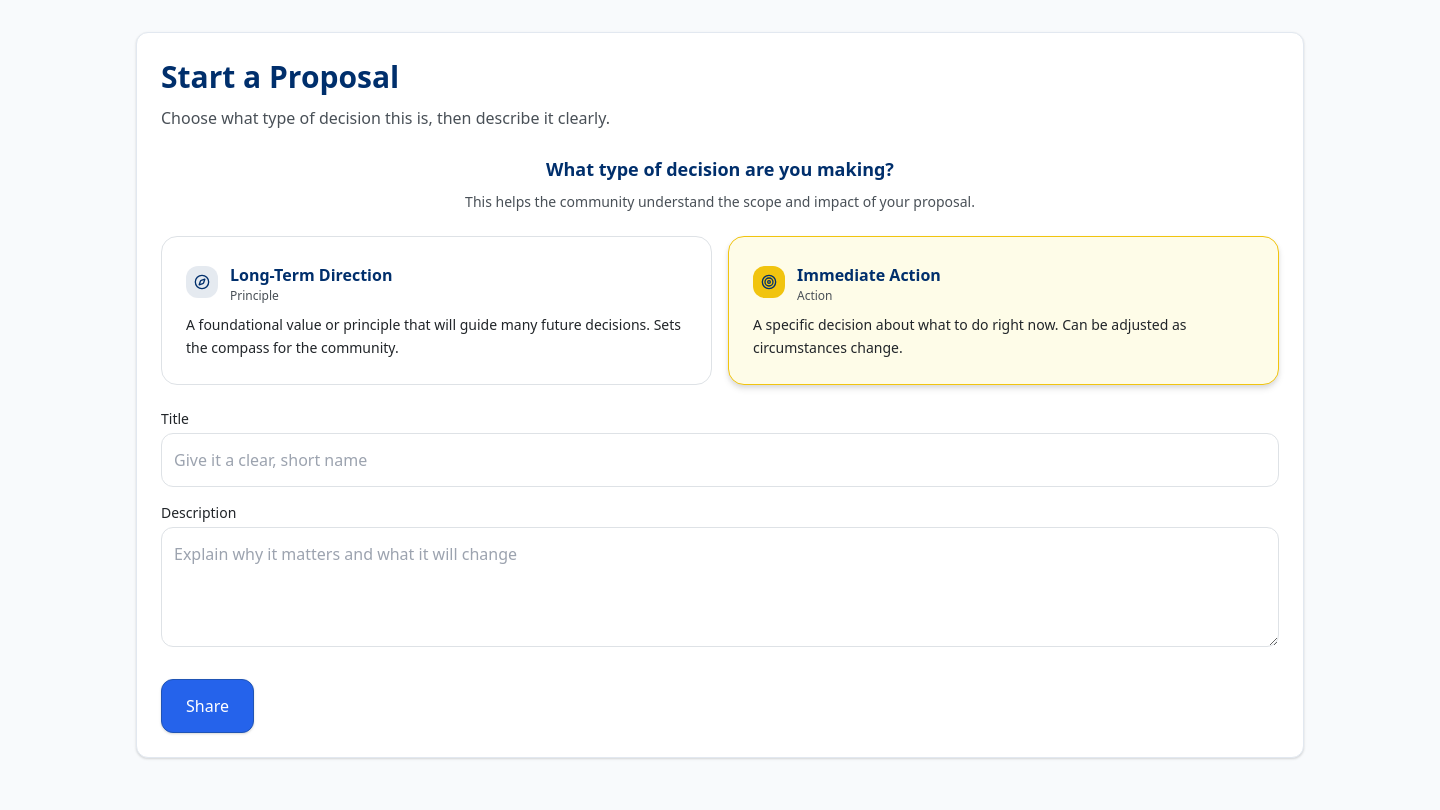
Scenario: ProposalNew › shows Level A choices when Level A is selected
This screenshot has width=1440, height=810.
Click the text "Long-Term Direction": click(311, 275) [230,261,392,289]
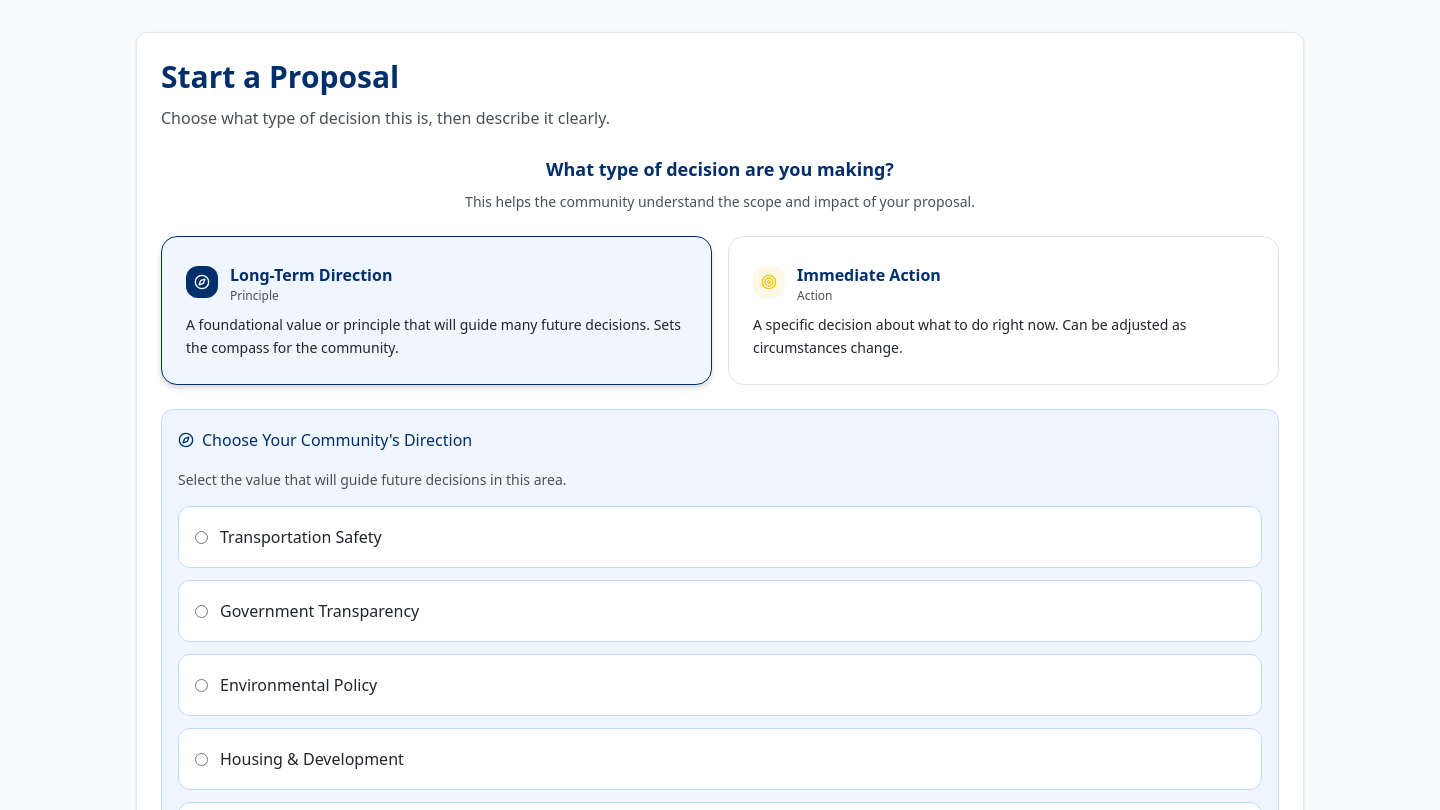
Expected: the text "Choose Your Community's Direction" is shown, [202,426,472,454]
Expected: the text "Transportation Safety" is shown, [220,523,382,551]
Expected: the text "Government Transparency" is shown, [220,597,419,625]
